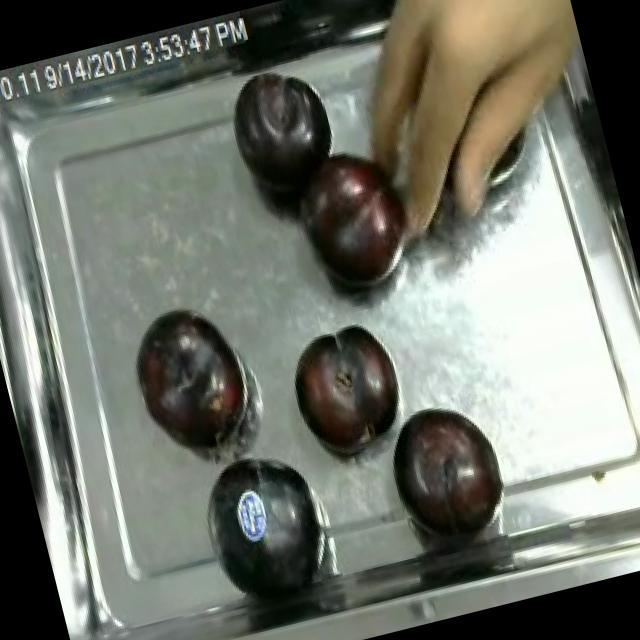Fruit: (272, 120, 432, 312), (182, 436, 348, 618), (116, 292, 261, 467), (375, 389, 517, 548), (274, 310, 414, 468), (217, 55, 351, 212)
